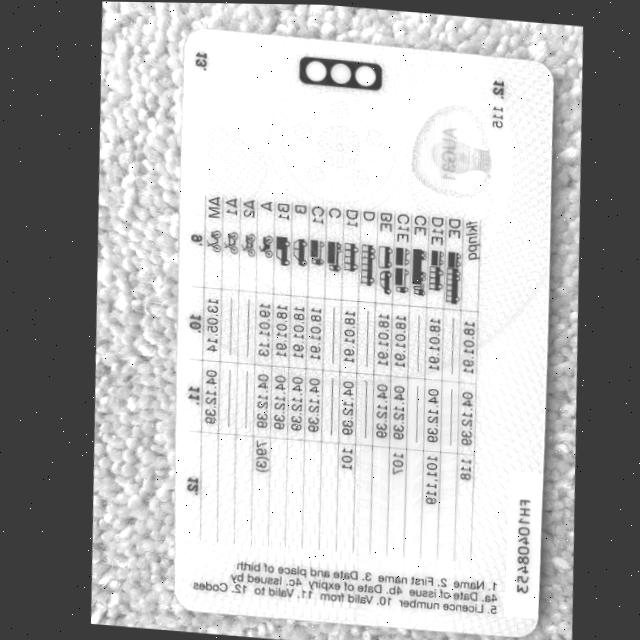card: (174, 31, 551, 635)
